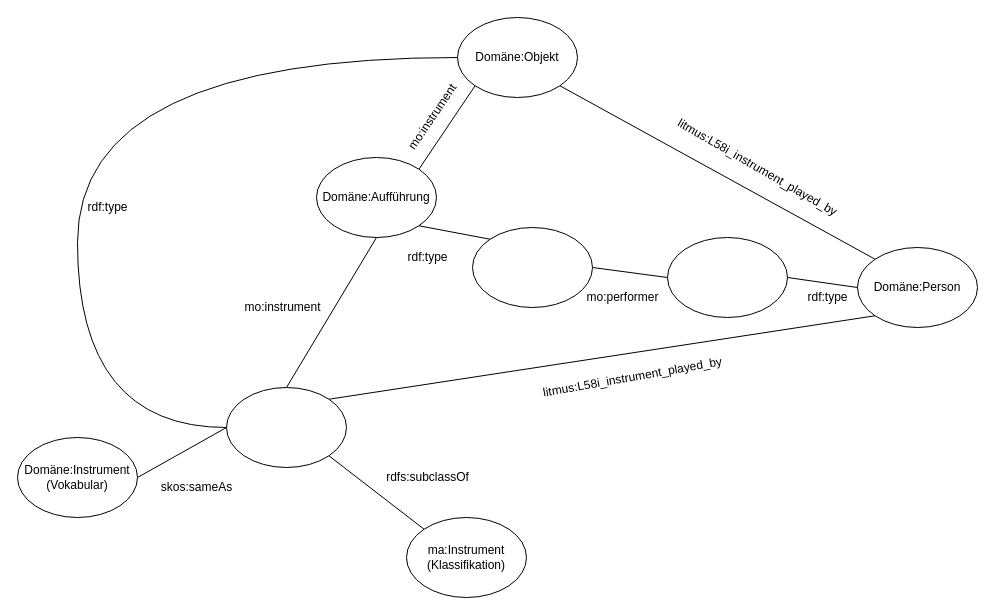
Some shapes in this 995 by 615 pixel diagram are drawn without their labels. Each missing label, with the centre of its shape:
"foaf:agent" goes at [727,277].
"ma:InstrumentX (Klassifikation)" goes at [286,427].
"mo:performance" goes at [532,267].
